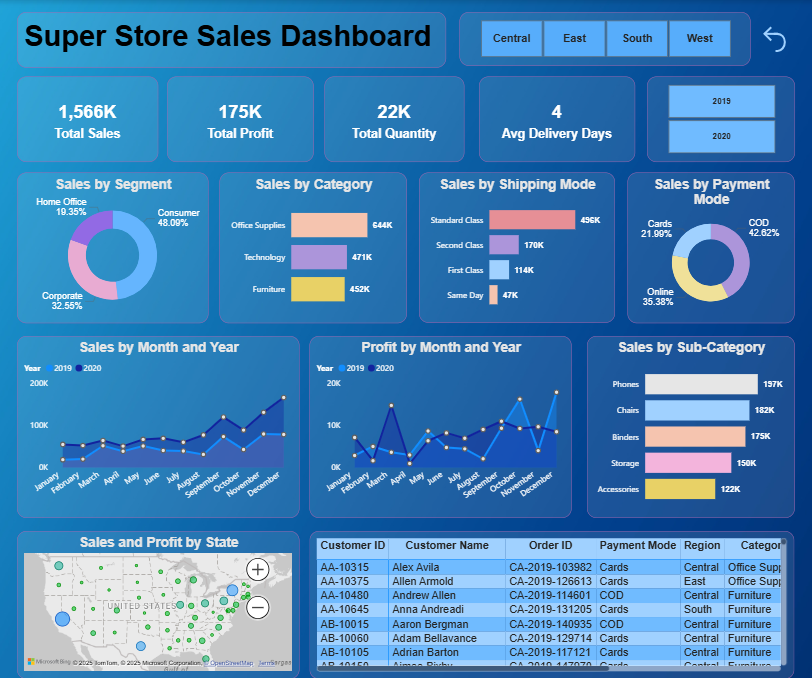

Layout of this report page (visuals, bound fields, positions):
{"tool":"powerbi","page":{"name":"Dashboard","canvas":[1200,1000],"ordinal":0},"visuals":[{"type":"clusteredBarChart","title":"Sales by Category","fields":{"Category":["SuperStore_Sales_Dataset.Category"],"Y":["SuperStore_Sales_Dataset.Sales"]},"box":[324,254,276,222],"z":0},{"type":"clusteredBarChart","title":"Sales by Sub-Category","fields":{"Category":["SuperStore_Sales_Dataset.Sub-Category"],"Y":["SuperStore_Sales_Dataset.Sales"]},"box":[866,494,306,268],"z":1000},{"type":"clusteredBarChart","title":"Sales by Shipping Mode","fields":{"Category":["SuperStore_Sales_Dataset.Ship Mode"],"Y":["SuperStore_Sales_Dataset.Sales"]},"box":[618.6,254.3,288.6,221.4],"z":2000},{"type":"areaChart","title":"Sales by Month and Year","fields":{"Y":["SuperStore_Sales_Dataset.Sales"],"Series":["SuperStore_Sales_Dataset.Order Date.Variation.Date Hierarchy.Year"],"Category":["SuperStore_Sales_Dataset.Order Date.Variation.Date Hierarchy.Month","SuperStore_Sales_Dataset.Order Date.Variation.Date Hierarchy.Day"]},"box":[26,494,416,268],"z":3000},{"type":"areaChart","title":"Profit by Month and Year","fields":{"Series":["SuperStore_Sales_Dataset.Order Date.Variation.Date Hierarchy.Year"],"Category":["SuperStore_Sales_Dataset.Order Date.Variation.Date Hierarchy.Month","SuperStore_Sales_Dataset.Order Date.Variation.Date Hierarchy.Day"],"Y":["SuperStore_Sales_Dataset.Profit"]},"box":[458,494,386,268],"z":4000},{"type":"map","title":"Sales and Profit by State","fields":{"Category":["SuperStore_Sales_Dataset.State"],"Size":["SuperStore_Sales_Dataset.Sales"]},"box":[26,782,416,218],"z":5000},{"type":"donutChart","title":"Sales by Segment","fields":{"Category":["SuperStore_Sales_Dataset.Segment"],"Y":["SuperStore_Sales_Dataset.Sales"]},"box":[26,254,282,222],"z":6000},{"type":"donutChart","title":"Sales by Payment Mode","fields":{"Category":["SuperStore_Sales_Dataset.Payment Mode","SuperStore_Sales_Dataset.Segment"],"Y":["SuperStore_Sales_Dataset.Sales"]},"box":[926,254,246,222],"z":7000},{"type":"slicer","fields":{"Values":["SuperStore_Sales_Dataset.Region"]},"box":[678,18.6,428.8,79.7],"z":8000},{"type":"card","fields":{"Values":["SuperStore_Sales_Dataset.Sales"]},"box":[26,112,208,126],"z":9000},{"type":"card","fields":{"Values":["SuperStore_Sales_Dataset.Profit"]},"box":[248,112,216,126],"z":10000},{"type":"card","fields":{"Values":["SuperStore_Sales_Dataset.Quantity"]},"box":[480,112,206,126],"z":11000},{"type":"card","fields":{"Values":["SuperStore_Sales_Dataset.Avg Delivery"]},"box":[708,112,230,126],"z":12000},{"type":"slicer","fields":{"Values":["SuperStore_Sales_Dataset.Order Date.Variation.Date Hierarchy.Year"]},"box":[954,112,218,126],"z":13000},{"type":"textbox","box":[26,18,632,82],"z":14000},{"type":"pivotTable","fields":{"Rows":["SuperStore_Sales_Dataset.Customer ID"],"Values":["SuperStore_Sales_Dataset.Customer Name","SuperStore_Sales_Dataset.Order ID","SuperStore_Sales_Dataset.Payment Mode","SuperStore_Sales_Dataset.Region","SuperStore_Sales_Dataset.Category","SuperStore_Sales_Dataset.Order Date","SuperStore_Sales_Dataset.Ship Date","SuperStore_Sales_Dataset.Ship Mode"]},"box":[458,782,714,218],"z":15000},{"type":"actionButton","box":[1118.6,32.2,54.2,49.2],"z":15002}]}

Visuals, with their boxes in screenshot pixels (x1, y1, x2, y2), scaled from the page's 1200x1000 canvas onto the 812x678 screenshot:
"Sales by Category" clusteredBarChart: bbox=[219, 172, 406, 323]
"Sales by Sub-Category" clusteredBarChart: bbox=[586, 335, 793, 517]
"Sales by Shipping Mode" clusteredBarChart: bbox=[419, 172, 614, 323]
"Sales by Month and Year" areaChart: bbox=[18, 335, 299, 517]
"Profit by Month and Year" areaChart: bbox=[310, 335, 571, 517]
"Sales and Profit by State" map: bbox=[18, 530, 299, 677]
"Sales by Segment" donutChart: bbox=[18, 172, 208, 323]
"Sales by Payment Mode" donutChart: bbox=[627, 172, 793, 323]
slicer - SuperStore_Sales_Dataset.Region: bbox=[459, 13, 749, 67]
card - SuperStore_Sales_Dataset.Sales: bbox=[18, 76, 158, 161]
card - SuperStore_Sales_Dataset.Profit: bbox=[168, 76, 314, 161]
card - SuperStore_Sales_Dataset.Quantity: bbox=[325, 76, 464, 161]
card - SuperStore_Sales_Dataset.Avg Delivery: bbox=[479, 76, 635, 161]
slicer - SuperStore_Sales_Dataset.Order Date.Variation.Date Hierarchy.Year: bbox=[646, 76, 793, 161]
textbox: bbox=[18, 12, 445, 68]
pivotTable - SuperStore_Sales_Dataset.Customer ID x SuperStore_Sales_Dataset.Customer Name: bbox=[310, 530, 793, 677]
actionButton: bbox=[757, 22, 794, 55]
